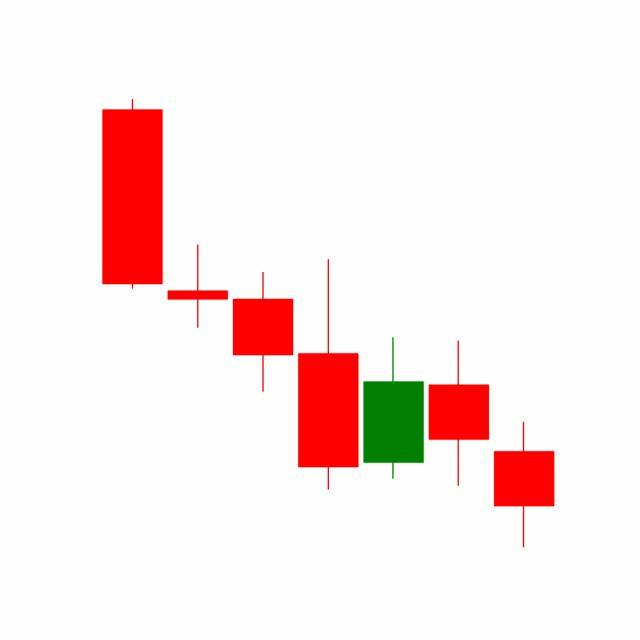Three Inside Up-Down: (360, 334, 556, 548)
